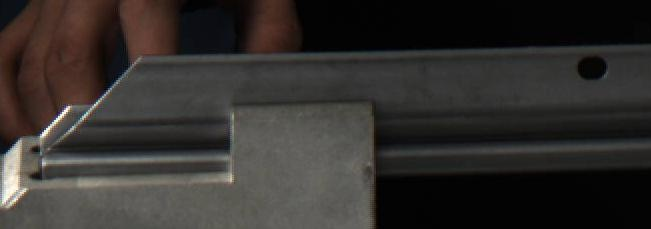cut: (30, 52, 208, 179)
holes: (575, 55, 608, 80)
